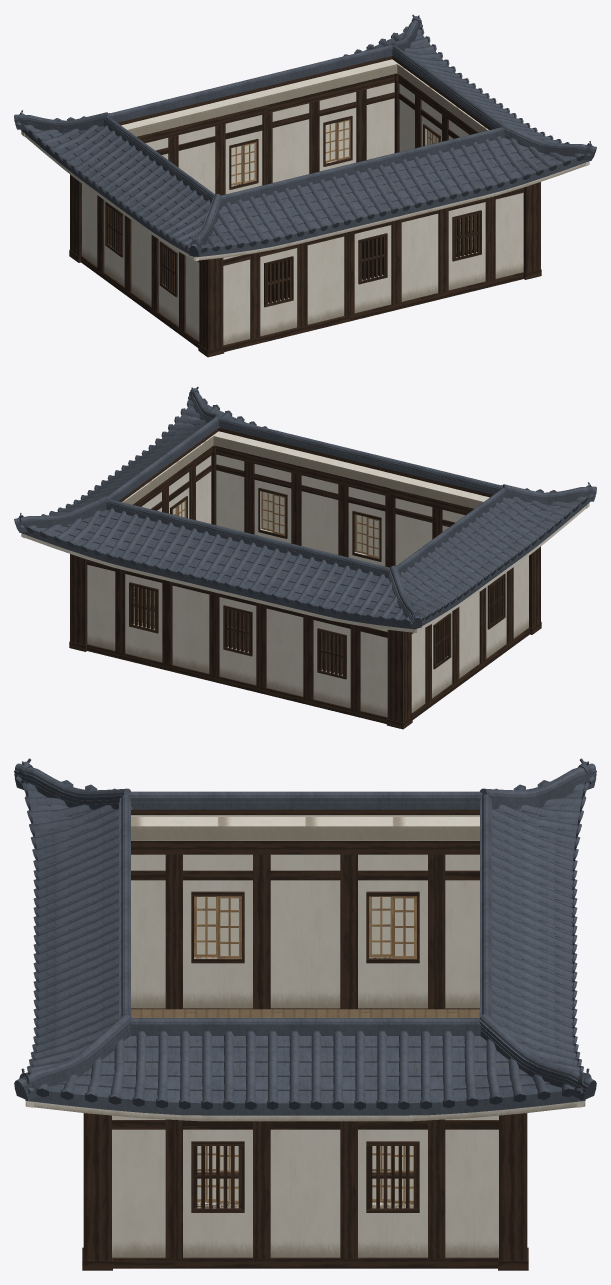
Rendered from HO_Castle_Keep_Tier4.fbx.
The picture shows the model from 3 angles, top to bottom: view 1: azimuth 30°, elevation 25°; view 2: azimuth 150°, elevation 25°; view 3: azimuth 270°, elevation 25°; orthographic projection. The views are drawn at different scales.
Parts seen in each view (by area): view 1: HO_Castle_Keep_Tier4_RoofTiles, HO_Castle_Keep_Tier4_Walls__Timber_Dark, HO_Castle_Keep_Tier4_Walls__Plaster_White, HO_Castle_Keep_Tier4_RoofFrame__Plaster_White, HO_Castle_Keep_Tier4_Walls__Shoji_Paper, HO_Castle_Keep_Tier4_RoofFrame__Timber_Dark, HO_Castle_Keep_Tier4_Walls__Timber_Light; view 2: HO_Castle_Keep_Tier4_RoofTiles, HO_Castle_Keep_Tier4_Walls__Timber_Dark, HO_Castle_Keep_Tier4_Walls__Plaster_White, HO_Castle_Keep_Tier4_RoofFrame__Plaster_White, HO_Castle_Keep_Tier4_RoofFrame__Timber_Dark, HO_Castle_Keep_Tier4_Walls__Shoji_Paper, HO_Castle_Keep_Tier4_Walls__Timber_Light; view 3: HO_Castle_Keep_Tier4_RoofTiles, HO_Castle_Keep_Tier4_Walls__Plaster_White, HO_Castle_Keep_Tier4_Walls__Timber_Dark, HO_Castle_Keep_Tier4_RoofFrame__Plaster_White, HO_Castle_Keep_Tier4_Walls__Shoji_Paper, HO_Castle_Keep_Tier4_Walls__Timber_Light, HO_Castle_Keep_Tier4_Walls__Wood_Planks, HO_Castle_Keep_Tier4_RoofFrame__Timber_Dark.
Boxes of the visible parts, x1,y1,x2,y2 form: HO_Castle_Keep_Tier4_RoofTiles: (14, 14, 596, 257); HO_Castle_Keep_Tier4_Walls__Timber_Dark: (69, 73, 541, 357); HO_Castle_Keep_Tier4_Walls__Plaster_White: (82, 82, 523, 345); HO_Castle_Keep_Tier4_RoofFrame__Plaster_White: (21, 59, 589, 260); HO_Castle_Keep_Tier4_Walls__Shoji_Paper: (231, 120, 472, 250); HO_Castle_Keep_Tier4_RoofFrame__Timber_Dark: (118, 56, 491, 129); HO_Castle_Keep_Tier4_Walls__Timber_Light: (231, 119, 476, 253); HO_Castle_Keep_Tier4_RoofTiles: (14, 386, 596, 629); HO_Castle_Keep_Tier4_Walls__Timber_Dark: (69, 445, 541, 729); HO_Castle_Keep_Tier4_Walls__Plaster_White: (87, 454, 528, 717); HO_Castle_Keep_Tier4_RoofFrame__Plaster_White: (21, 431, 589, 632); HO_Castle_Keep_Tier4_RoofFrame__Timber_Dark: (119, 428, 492, 501); HO_Castle_Keep_Tier4_Walls__Shoji_Paper: (138, 492, 378, 624); HO_Castle_Keep_Tier4_Walls__Timber_Light: (138, 491, 379, 626); HO_Castle_Keep_Tier4_RoofTiles: (14, 758, 596, 1115); HO_Castle_Keep_Tier4_Walls__Plaster_White: (112, 854, 498, 1257); HO_Castle_Keep_Tier4_Walls__Timber_Dark: (82, 841, 528, 1270); HO_Castle_Keep_Tier4_RoofFrame__Plaster_White: (25, 794, 585, 1121); HO_Castle_Keep_Tier4_Walls__Shoji_Paper: (197, 897, 413, 1200); HO_Castle_Keep_Tier4_Walls__Timber_Light: (194, 896, 416, 1203); HO_Castle_Keep_Tier4_Walls__Wood_Planks: (131, 1009, 479, 1017); HO_Castle_Keep_Tier4_RoofFrame__Timber_Dark: (131, 809, 479, 814).
Size of the model in its own units: 34.66 by 12.02 by 26.66.
